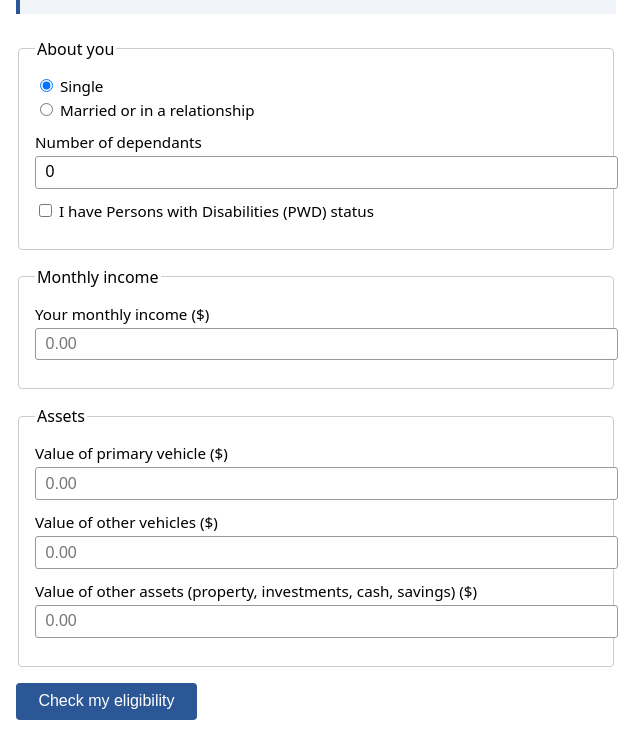
Test: EligibilityEstimator component › shows eligible result after successful calculation
The image size is (635, 737).
(page scrolled)
Click the button "Check my eligibility" at [106, 701], box [16,683,197,720]
(page scrolled)
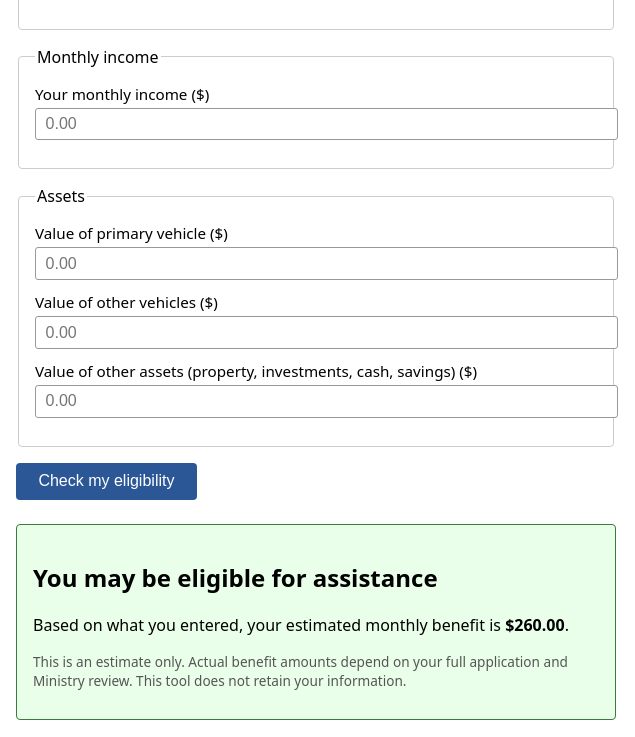
Now the heading "You may be eligible for assistance" is shown, box [33,561,438,594]
Now the text "$260.00" is shown, box [505,614,565,636]
